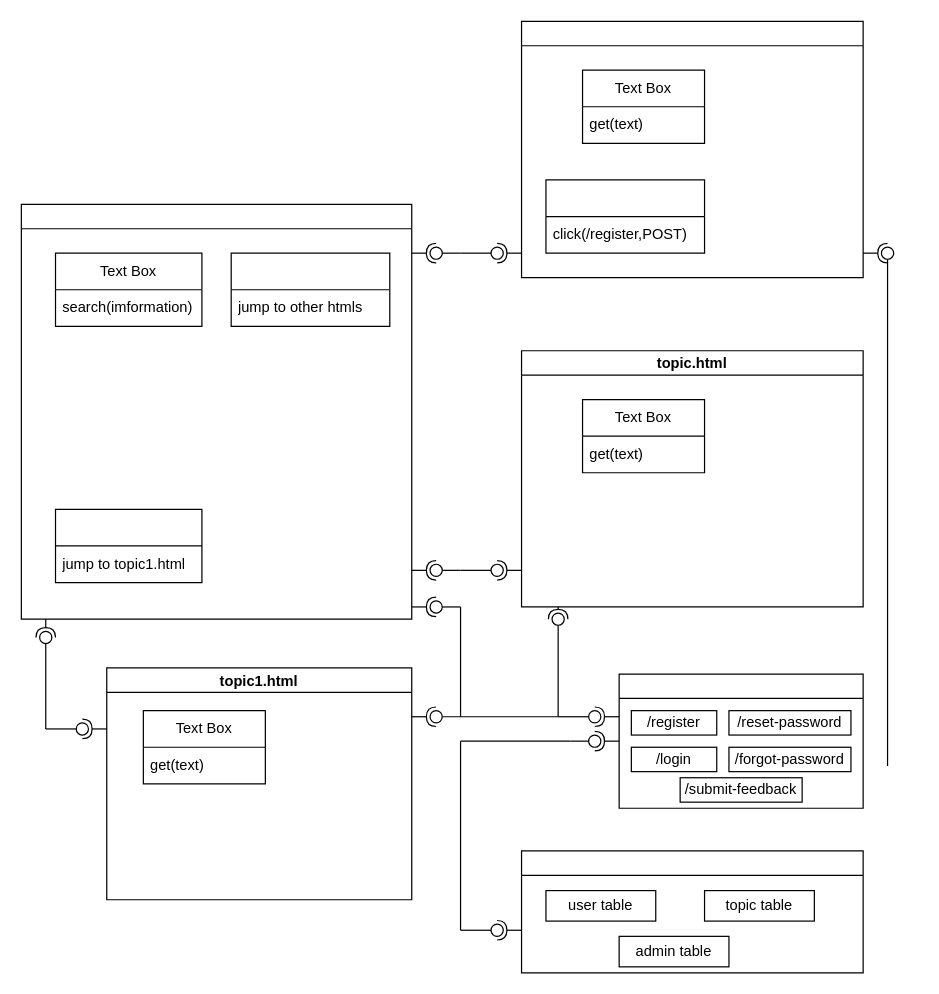
Image size: 939x994. Some labels were removed from this diagram. The box of each missing label's shape, as (x1, y1, x2, y2) in pixels:
center.html: (520, 20, 863, 278)
community.html: (20, 203, 412, 619)
Flask: (618, 673, 863, 808)
Mysql: (520, 850, 863, 973)
Navigation: (230, 252, 390, 326)
Register Button: (545, 179, 705, 253)
Topic icon: (54, 508, 202, 583)
